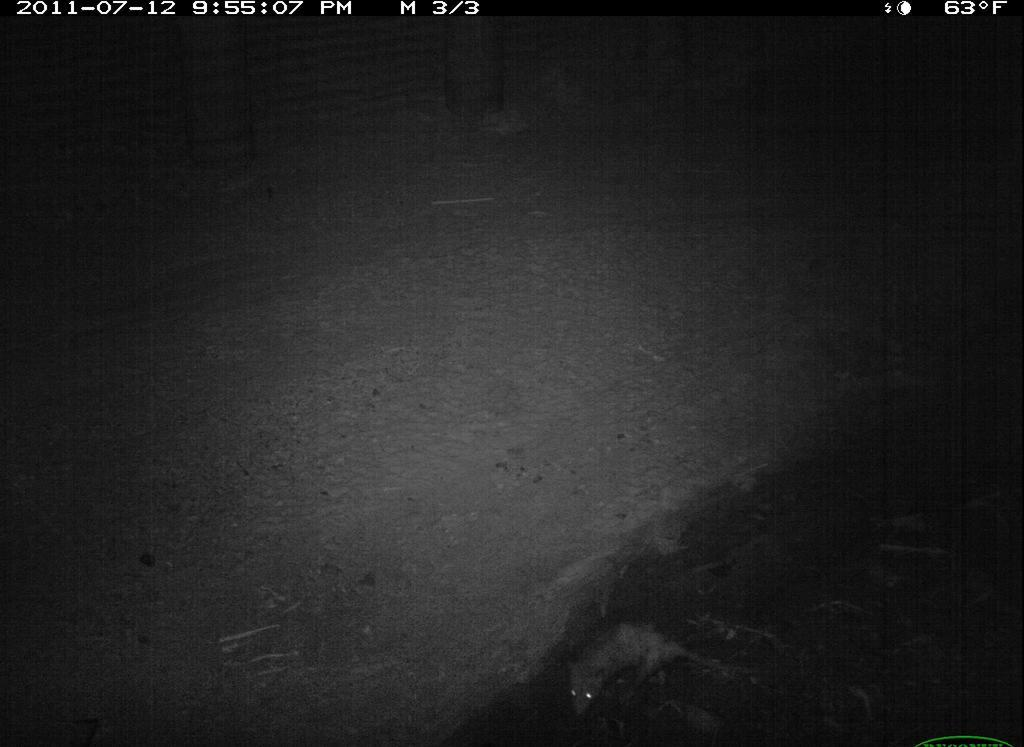opossum: (552, 612, 760, 728)
